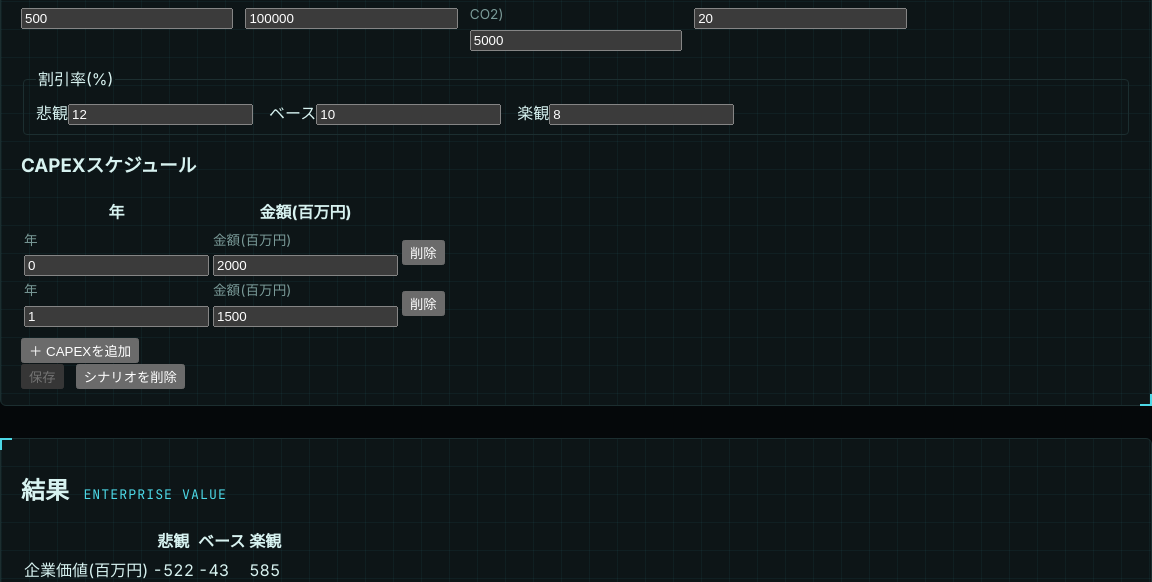
Test: ClimateTechScenarioView › CAPEXスケジュールの行を追加・削除できる
(page scrolled)
Expected: the number of number fields labelled "金額(百万円)" is 2, [213, 255, 398, 276]; [213, 306, 398, 327]
Click the button "＋ CAPEXを追加" at (80, 350), box [21, 338, 139, 363]
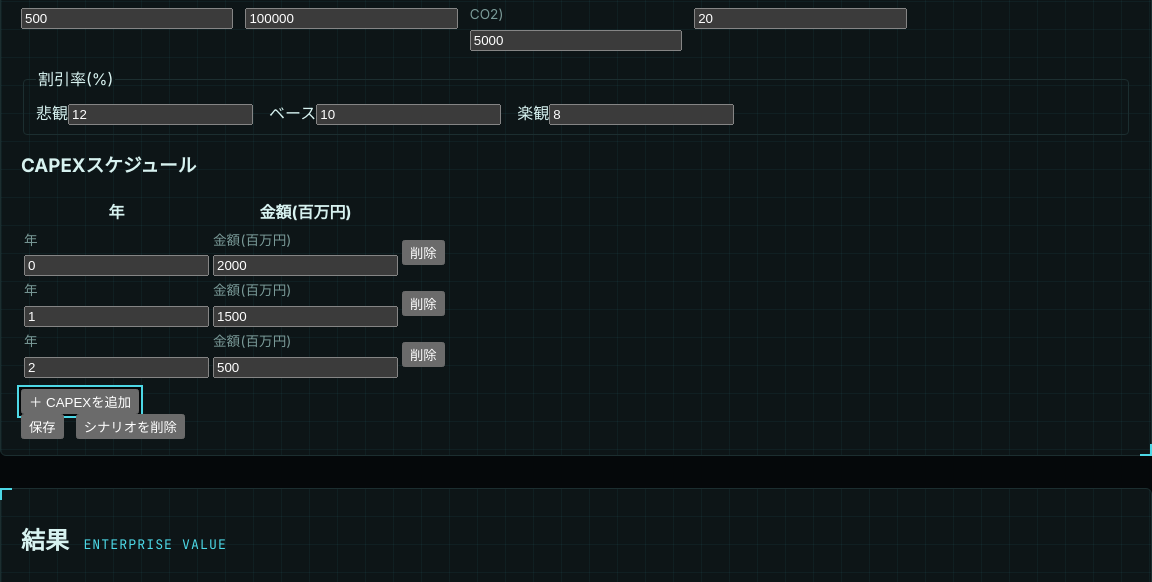
Expected: the number of number fields labelled "金額(百万円)" is 3, [213, 255, 398, 276]; [213, 306, 398, 327]; [213, 357, 398, 378]
Click the 3rd button "削除" at (423, 354), box [402, 342, 445, 367]
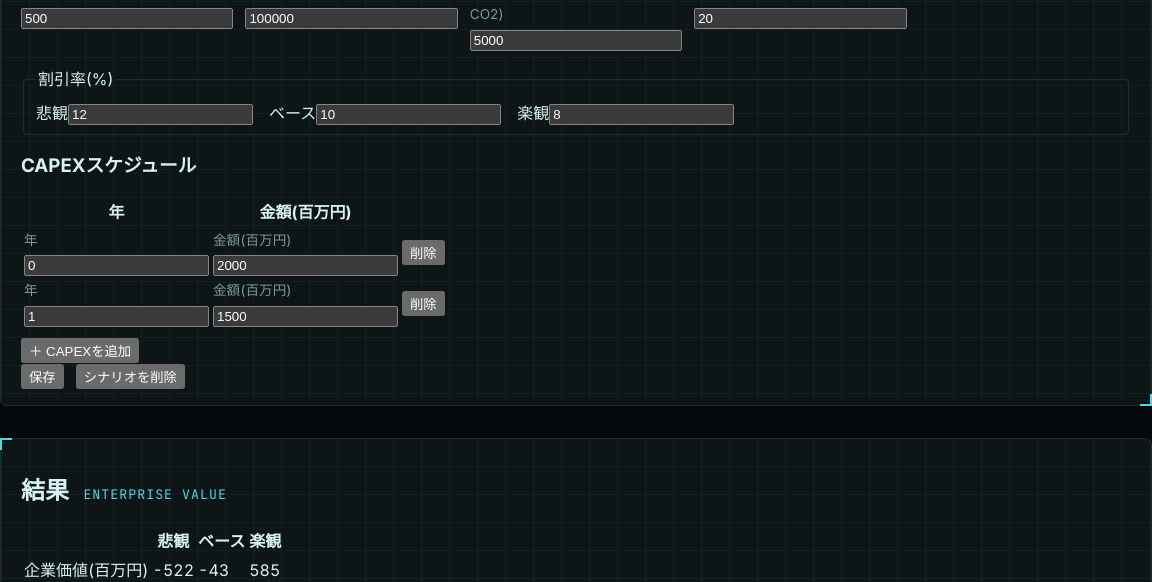
Expected: the number of number fields labelled "金額(百万円)" is 2, [213, 255, 398, 276]; [213, 306, 398, 327]
